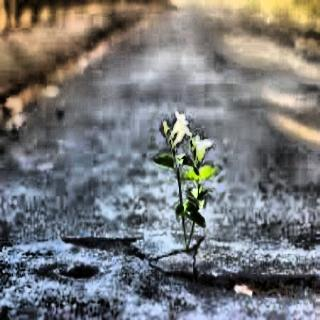crack: (67, 234, 317, 300)
